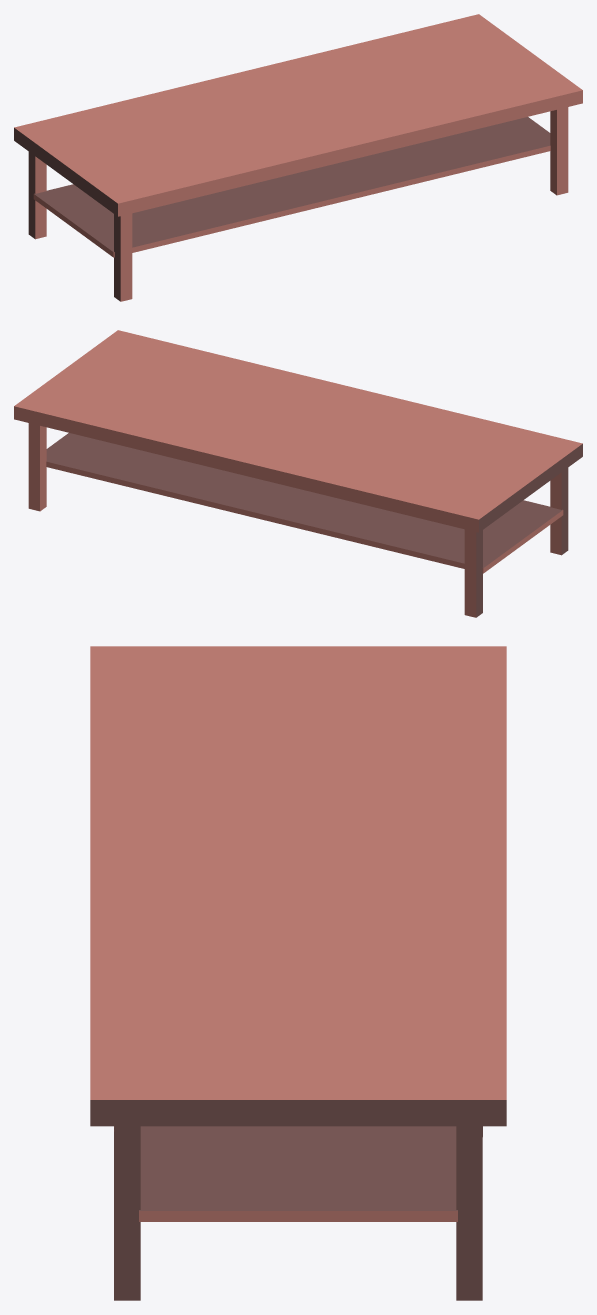
The model's file is Coffee Table.fbx.
3 renders of one model, top to bottom at view 1: azimuth 30°, elevation 25°; view 2: azimuth 150°, elevation 25°; view 3: azimuth 270°, elevation 25°, orthographic. The views are drawn at different scales.
Parts seen in each view (by area): view 1: Coffee Table; view 2: Coffee Table; view 3: Coffee Table.
Boxes of the visible parts, x1,y1,x2,y2 form: Coffee Table: (14, 14, 582, 301); Coffee Table: (14, 330, 582, 617); Coffee Table: (90, 646, 506, 1300).
Bounding box in the file's own units: 388 × 83.39 × 150.
